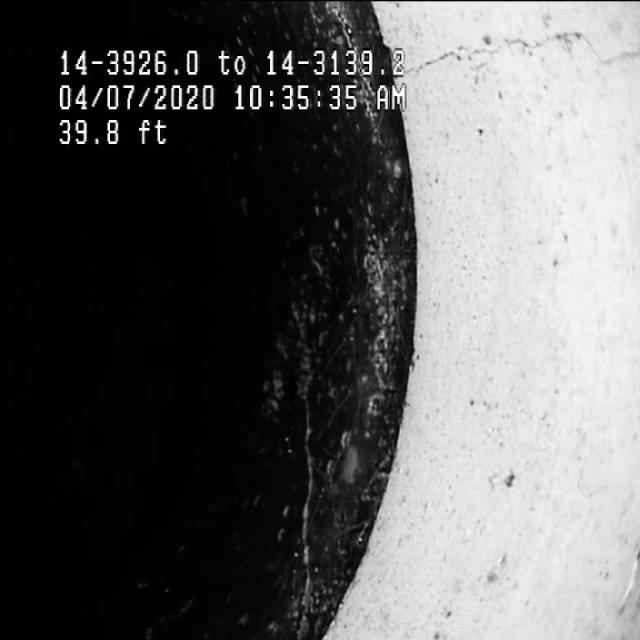Crack: (270, 318, 344, 588), (424, 26, 530, 72)
